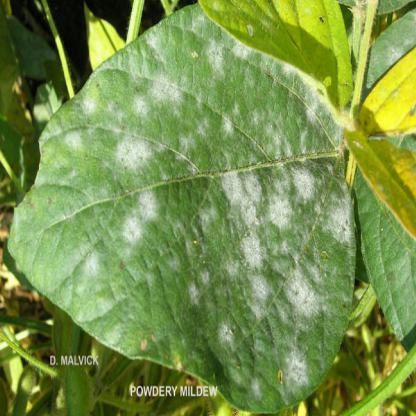squash powdery mildew leaf: (6, 3, 359, 403)
